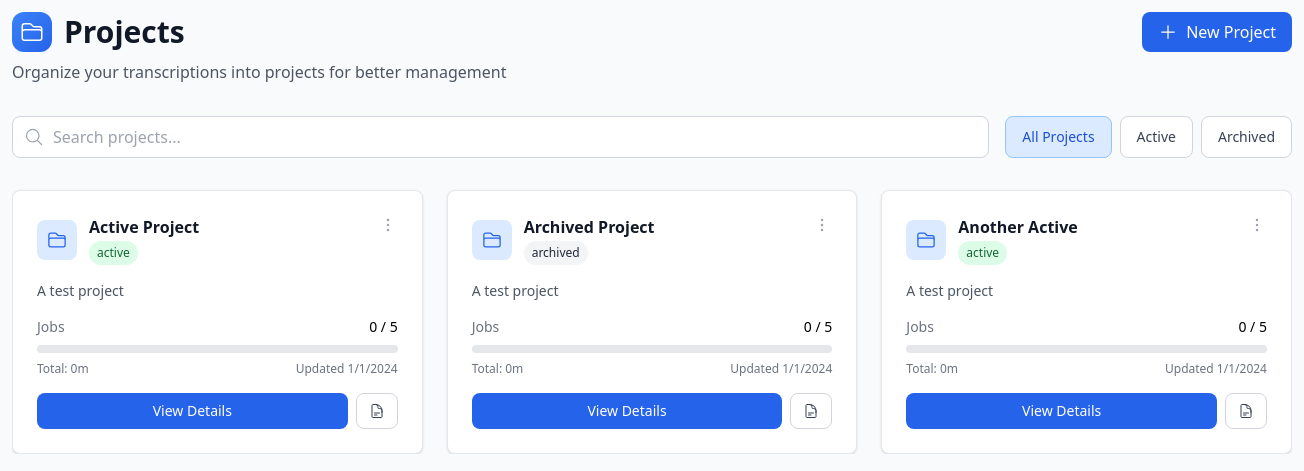
Test: ProjectsPage Component › Search Functionality › should filter projects by name
The image size is (1304, 471).
Expected: the heading "Active Project" is shown, [89,215,199,239]
Type "Active Project" into the field with placeholder "Search projects..." at (501, 137), box [12,116,989,158]
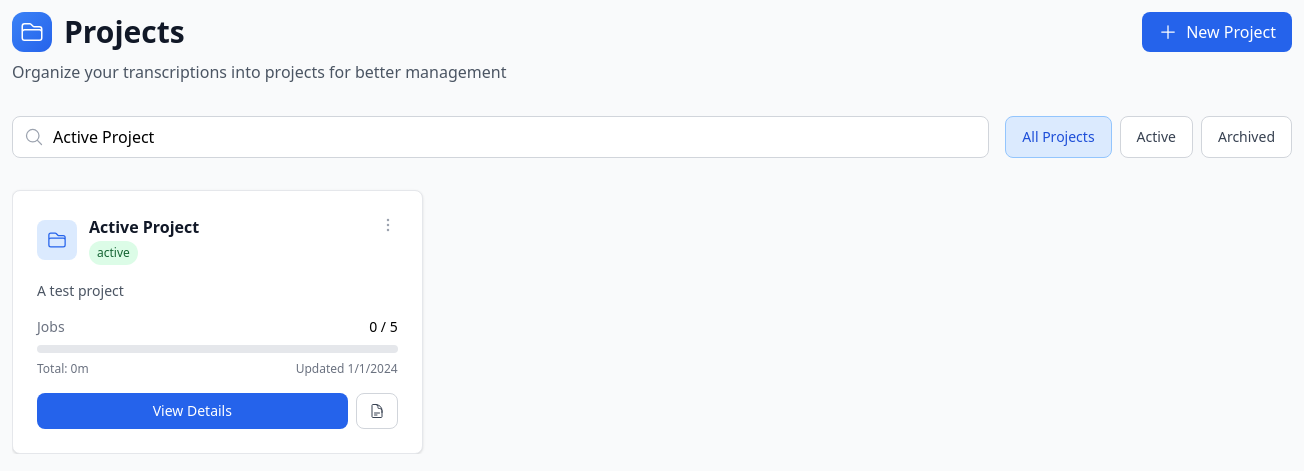
Expected: the heading "Active Project" is shown, [89,215,199,239]
Now the heading "Archived Project" is gone
